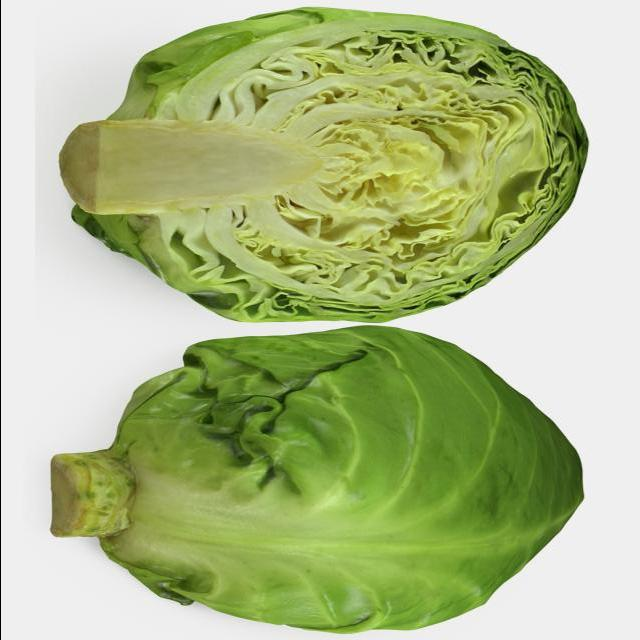cabbage: (35, 324, 605, 638), (52, 7, 600, 327)
